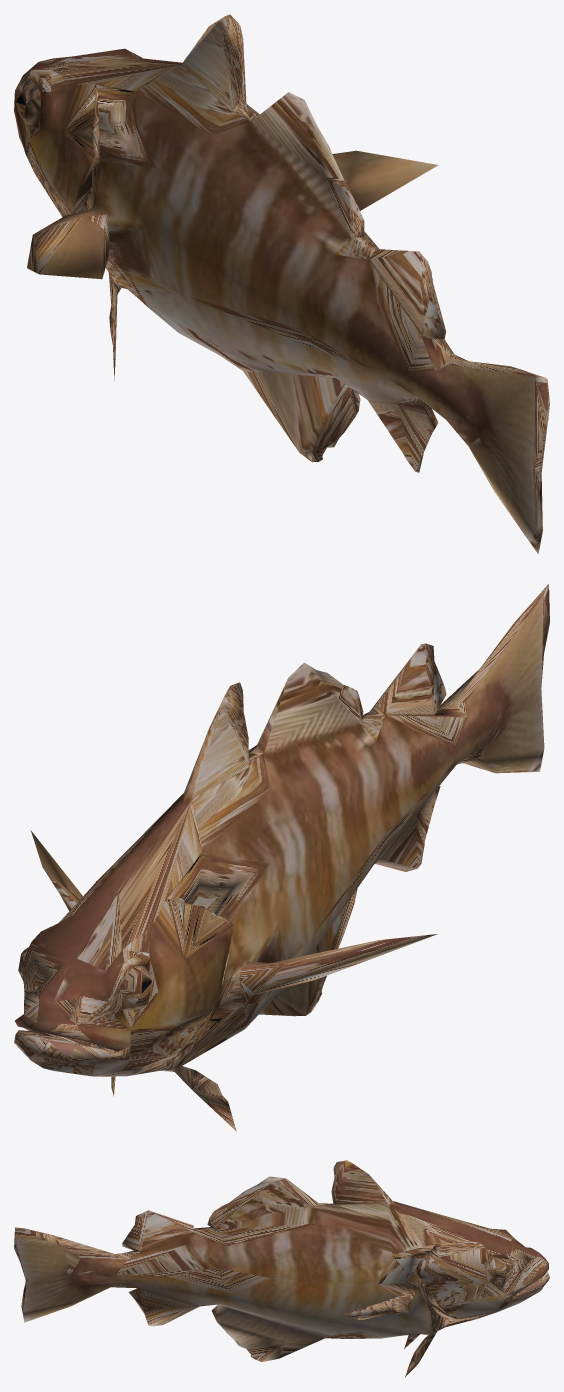
File: steenbolk-ver.glb
The picture shows the model from 3 angles, top to bottom: view 1: azimuth 30°, elevation 25°; view 2: azimuth 150°, elevation 25°; view 3: azimuth 270°, elevation 25°; orthographic projection. The views are drawn at different scales.
Parts seen in each view (by area): view 1: tripo_node_89d87e2a-f87a-4391-a4d3-4db0e06d3e10; view 2: tripo_node_89d87e2a-f87a-4391-a4d3-4db0e06d3e10; view 3: tripo_node_89d87e2a-f87a-4391-a4d3-4db0e06d3e10.
Part boxes in pixels (<box>): tripo_node_89d87e2a-f87a-4391-a4d3-4db0e06d3e10: <box>14,14,549,554</box>; tripo_node_89d87e2a-f87a-4391-a4d3-4db0e06d3e10: <box>14,584,549,1131</box>; tripo_node_89d87e2a-f87a-4391-a4d3-4db0e06d3e10: <box>14,1160,549,1377</box>.
Size of the model in its own units: 0.379 by 0.3468 by 0.8226.
1 material, 1 textured.
